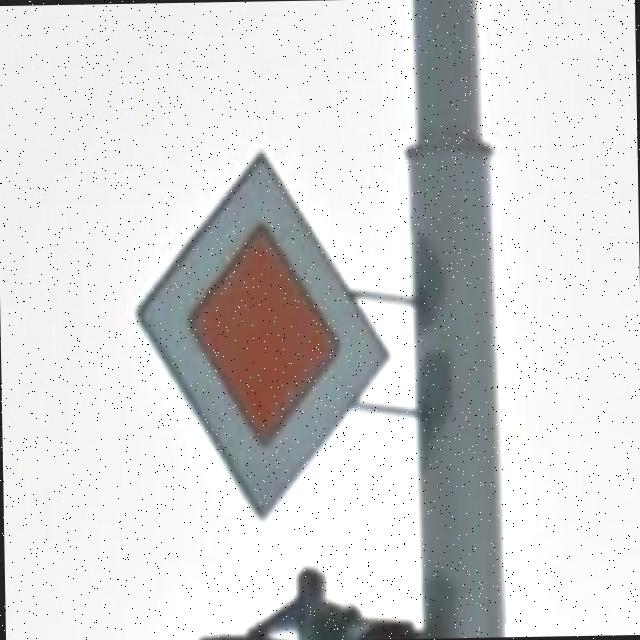Droga z pierwszenstwem: (132, 150, 390, 524)
